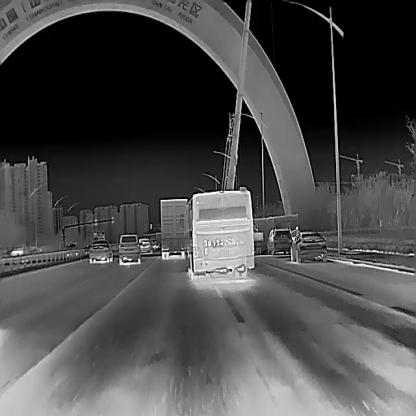bus: (178, 186, 254, 280)
car: (290, 230, 326, 262), (118, 233, 140, 264), (266, 228, 291, 254), (88, 240, 112, 262), (9, 250, 29, 262), (137, 237, 152, 253), (64, 245, 78, 256)
truck: (159, 198, 189, 258)
